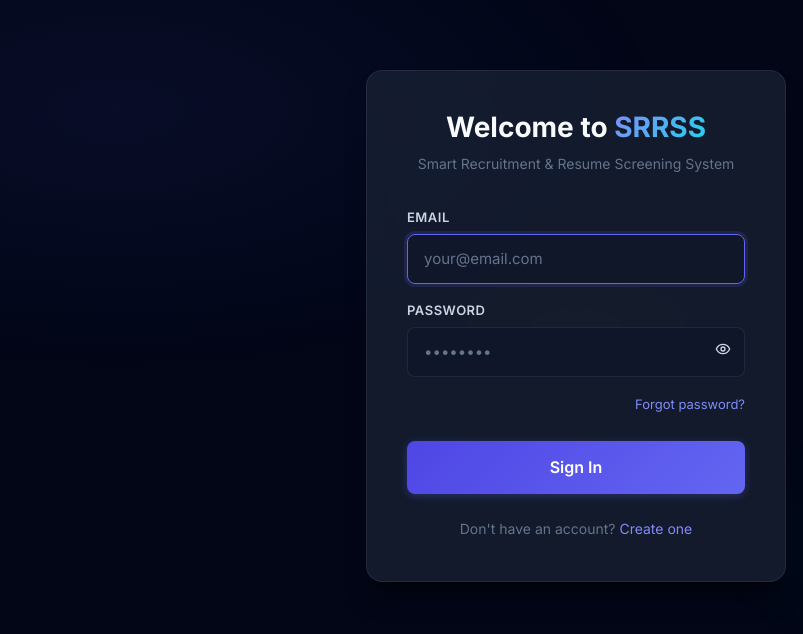
Test: Login Page › displays backend error message when login fails
The width and height of the screenshot is (803, 634).
Type "test@example.com" into the field labelled "Email".
click(576, 259); type("test@example.com")  # box [407,234,745,284]
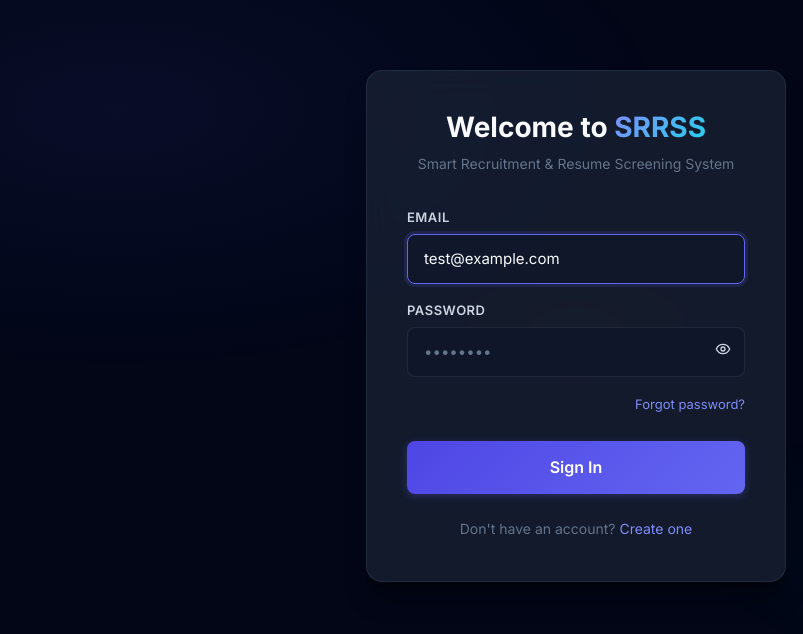
Type "wrongpassword" into the password field labelled "Password".
click(576, 352); type("wrongpassword")  # box [407,327,745,377]
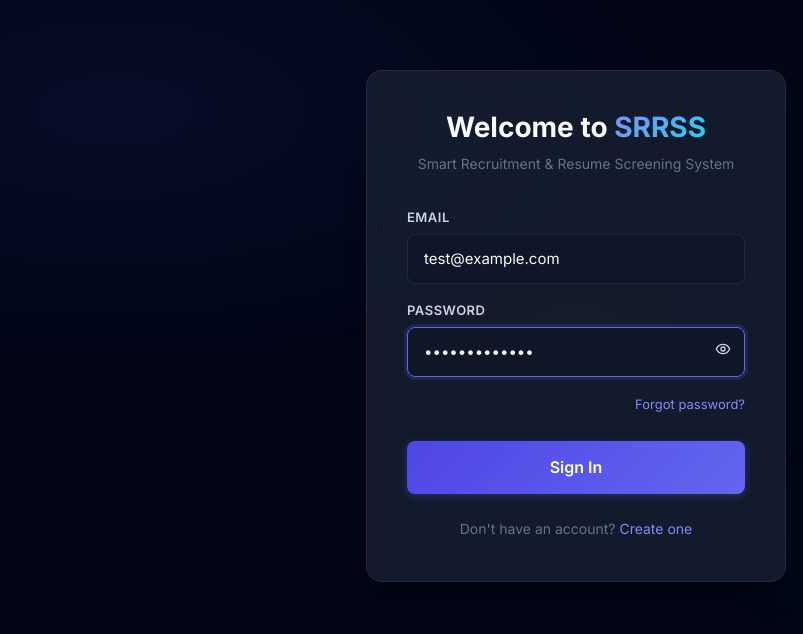
Click the button "Sign In".
click(576, 467)  # box [407,441,745,494]
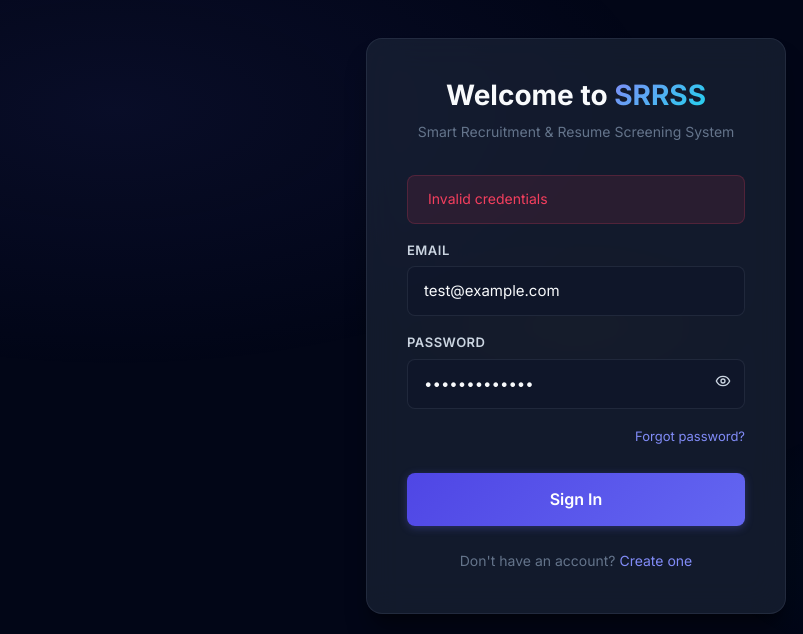
Expected: the text "Invalid credentials" is shown, [407,175,745,224]
